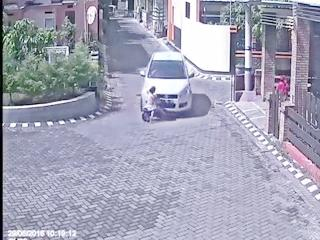Car: (141, 52, 190, 112)
Minor Accident: (140, 50, 191, 125)
Motor: (140, 100, 177, 125)
